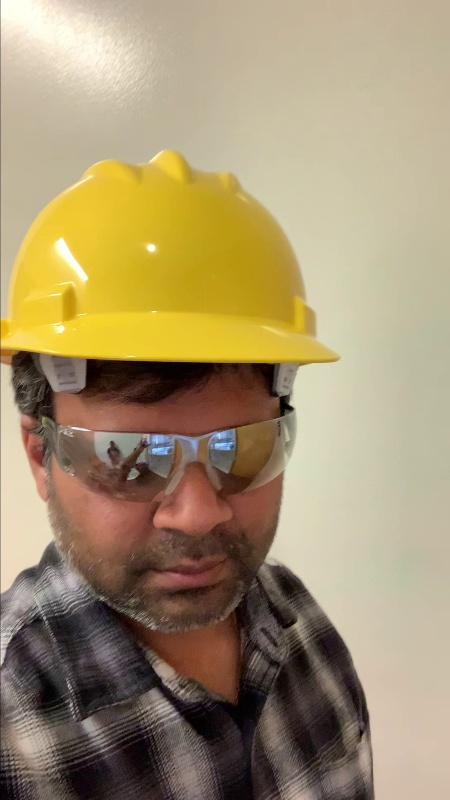glasses: (52, 409, 306, 503)
helmet: (1, 144, 344, 379)
